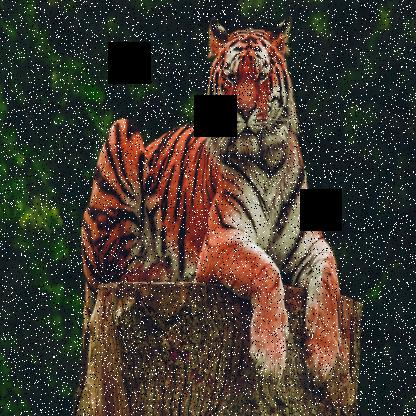Panthera tigris: (81, 14, 340, 387)
